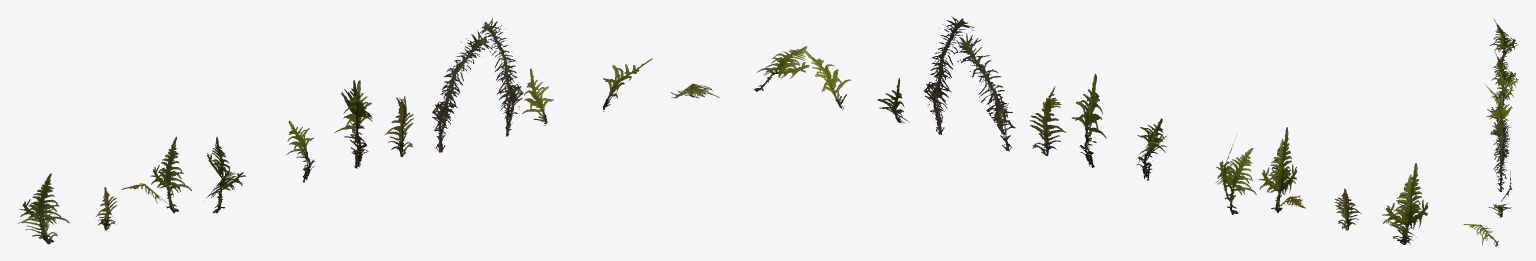
The model's file is ph-moss_01.glb.
3 views of the same model, side by side, from view 1: azimuth 30°, elevation 25°; view 2: azimuth 150°, elevation 25°; view 3: azimuth 270°, elevation 25° (orthographic). The views are drawn at different scales.
Visible parts, largest first — view 1: moss_01_c_LOD0; view 2: moss_01_c_LOD0; view 3: moss_01_c_LOD0.
Part boxes in pixels (x1=…): moss_01_c_LOD0: x1=18, y1=17, x2=719, y2=244; moss_01_c_LOD0: x1=754, y1=16, x2=1428, y2=244; moss_01_c_LOD0: x1=1463, y1=18, x2=1518, y2=246.
Bounding box in the file's own units: 0.2153 × 0.0404 × 0.0294.
1 material, 1 textured.
